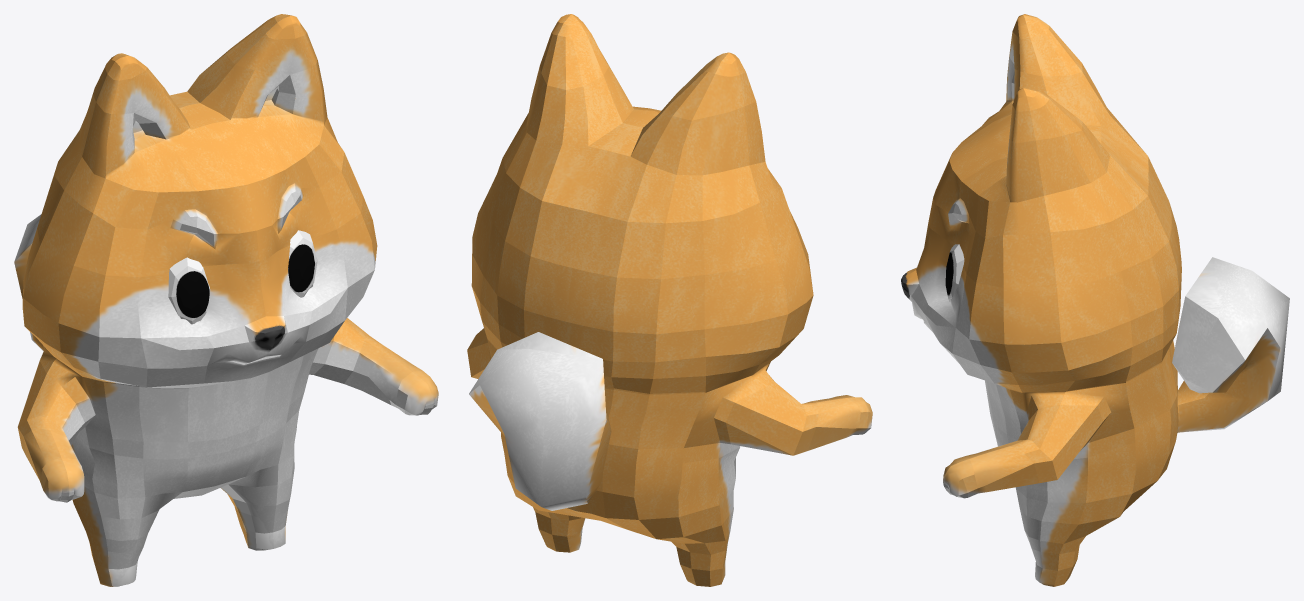
File: Shib.fbx
3 views of the same model, side by side, from view 1: azimuth 30°, elevation 25°; view 2: azimuth 150°, elevation 25°; view 3: azimuth 270°, elevation 25° (orthographic). The views are drawn at different scales.
Visible parts, largest first — view 1: polySurface48, polySurface46; view 2: polySurface48; view 3: polySurface48, polySurface46.
Part boxes in pixels (x1,y1,x2,y2): polySurface48: [14, 14, 438, 586]; polySurface46: [168, 230, 317, 324]; polySurface48: [467, 14, 872, 586]; polySurface48: [901, 14, 1289, 586]; polySurface46: [945, 244, 964, 301].
Size of the model in its own units: 10.68 by 14.1 by 10.05.
